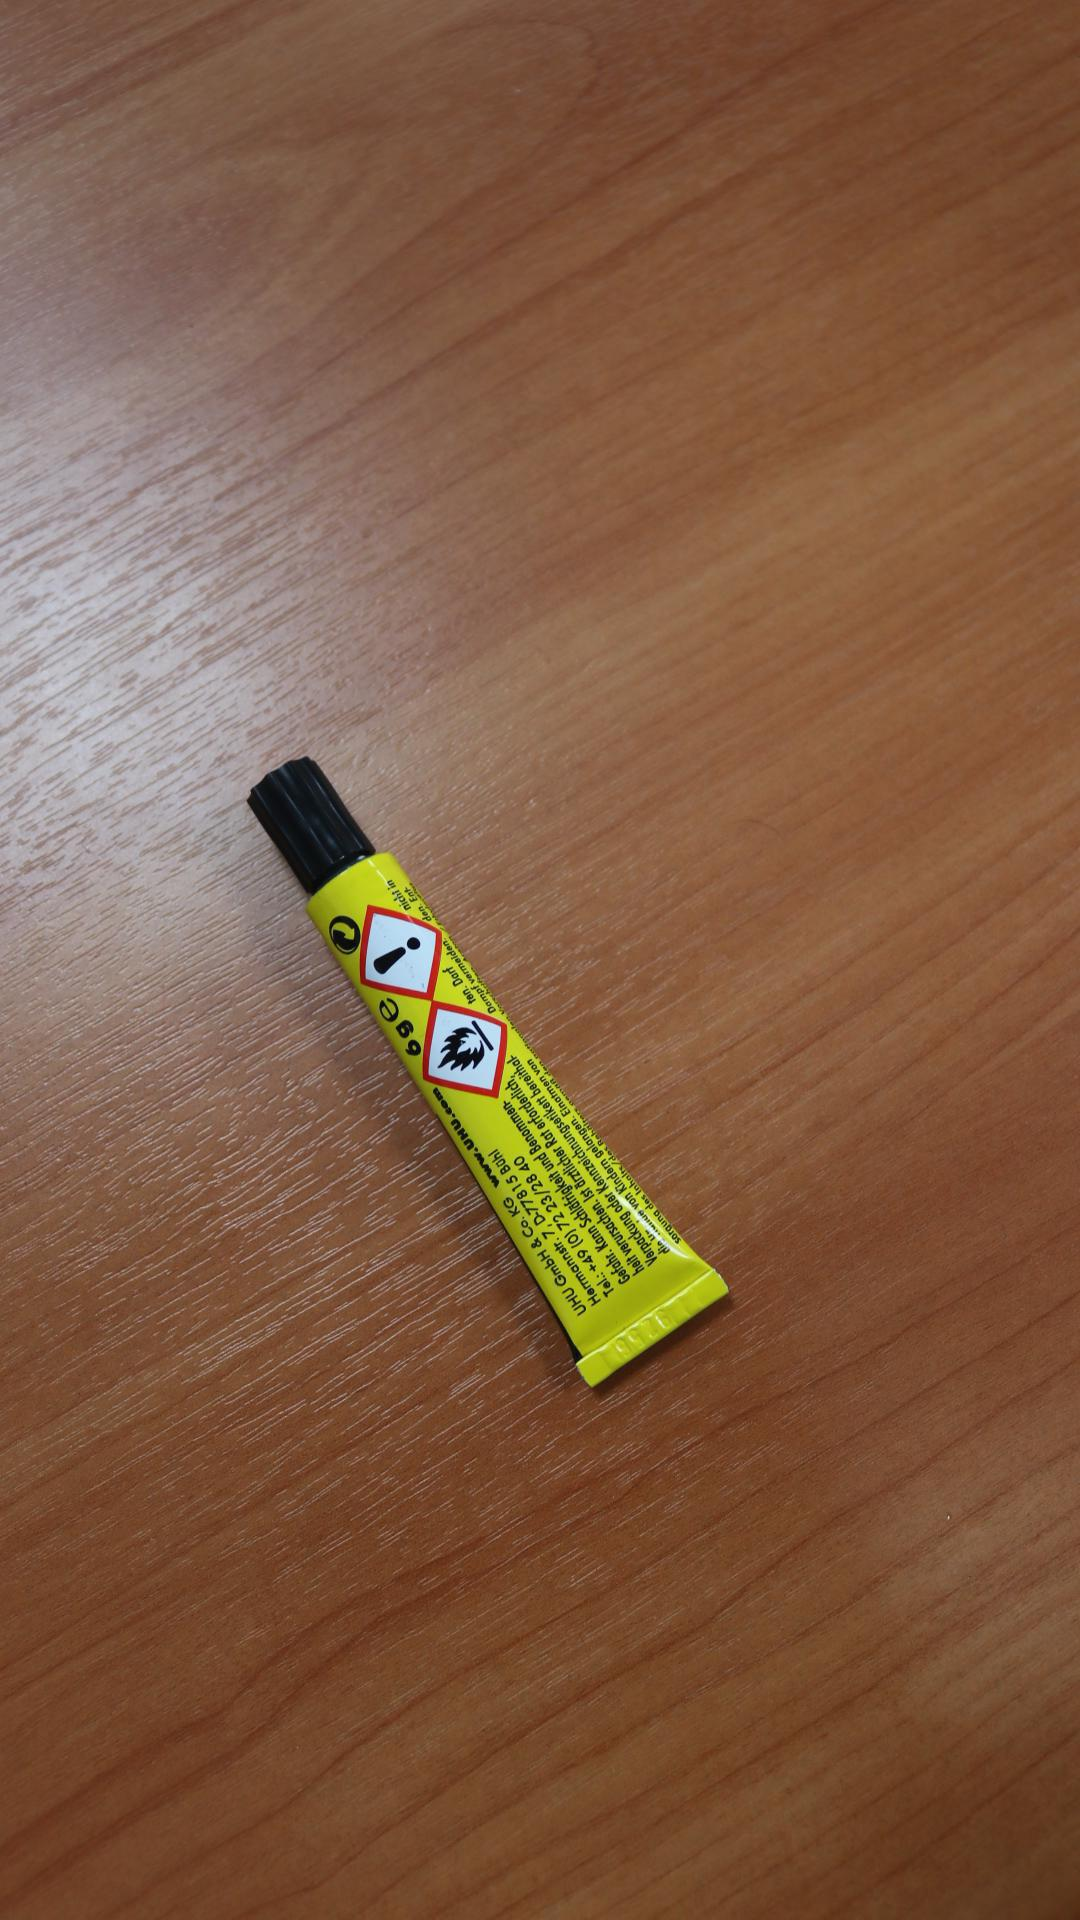Head: (303, 810, 326, 836)
Tail: (637, 1325, 657, 1345)
Tube: (245, 756, 730, 1392)
